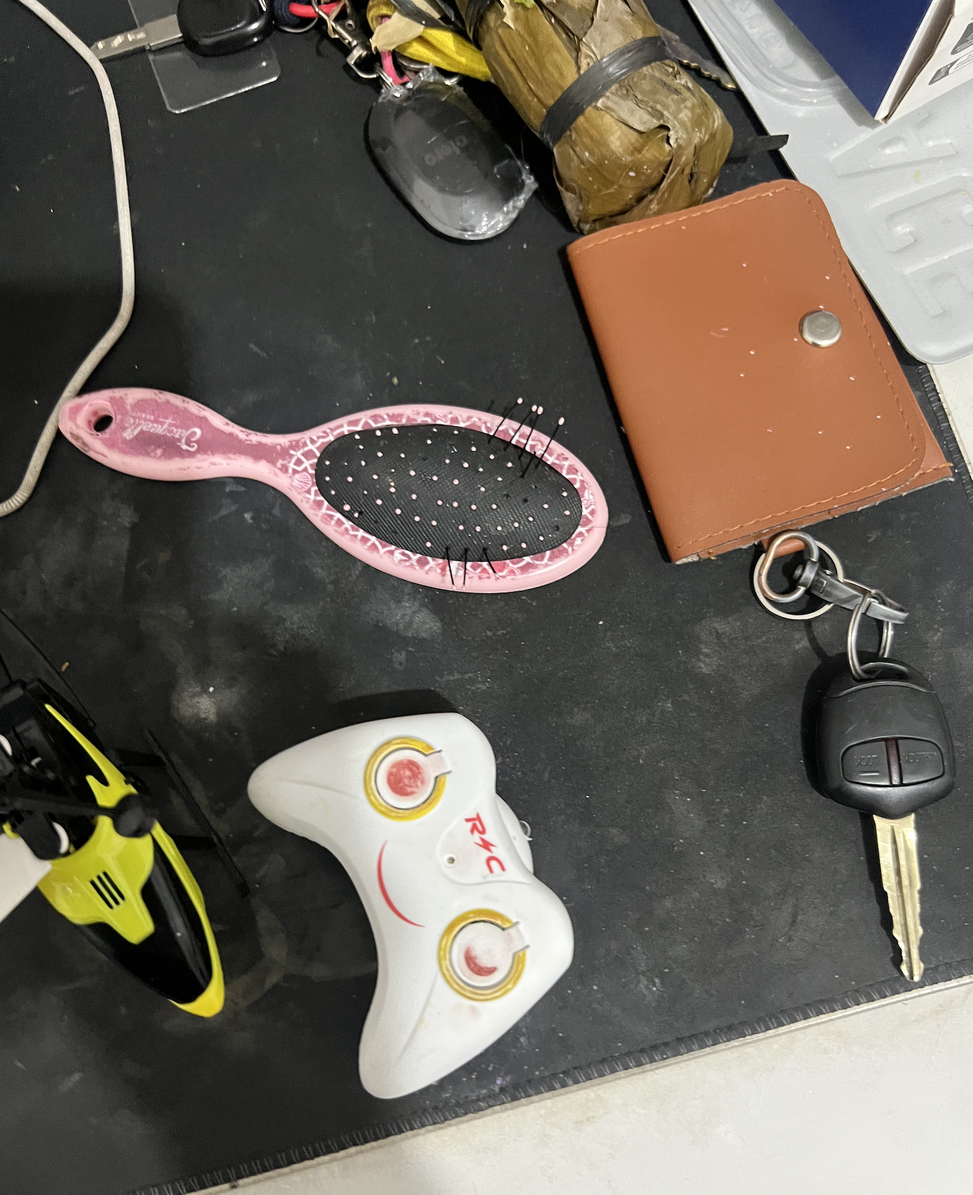gamepad: (259, 666, 607, 1129)
helikopter: (3, 592, 242, 1099)
jungkat: (27, 351, 627, 651)
kunci: (713, 536, 973, 1001)
